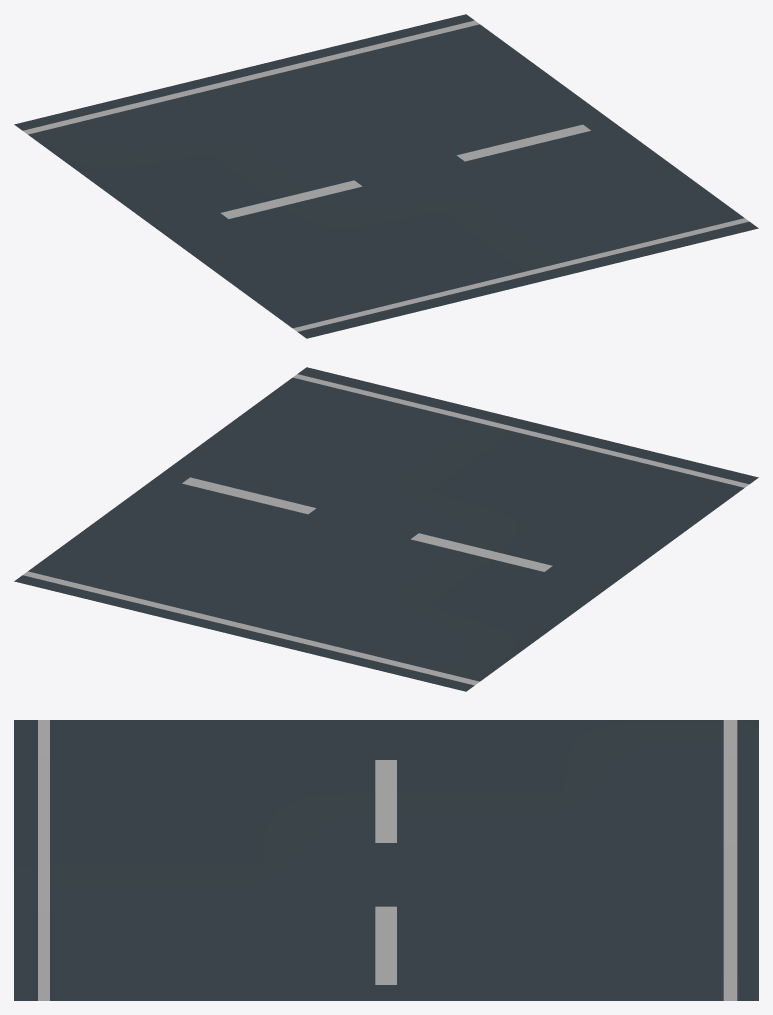
The model's file is Infra_Road_mdl.fbx.
3 renders of one model, top to bottom at view 1: azimuth 30°, elevation 25°; view 2: azimuth 150°, elevation 25°; view 3: azimuth 270°, elevation 25°, orthographic. The views are drawn at different scales.
Visible parts, largest first — view 1: road_geo; view 2: road_geo; view 3: road_geo.
Part boxes in pixels (box(x1,y1,x2,y2)): road_geo: box(14, 14, 758, 338); road_geo: box(14, 367, 758, 691); road_geo: box(14, 720, 758, 1000).
Size of the model in its own units: 800 by 0 by 897.
